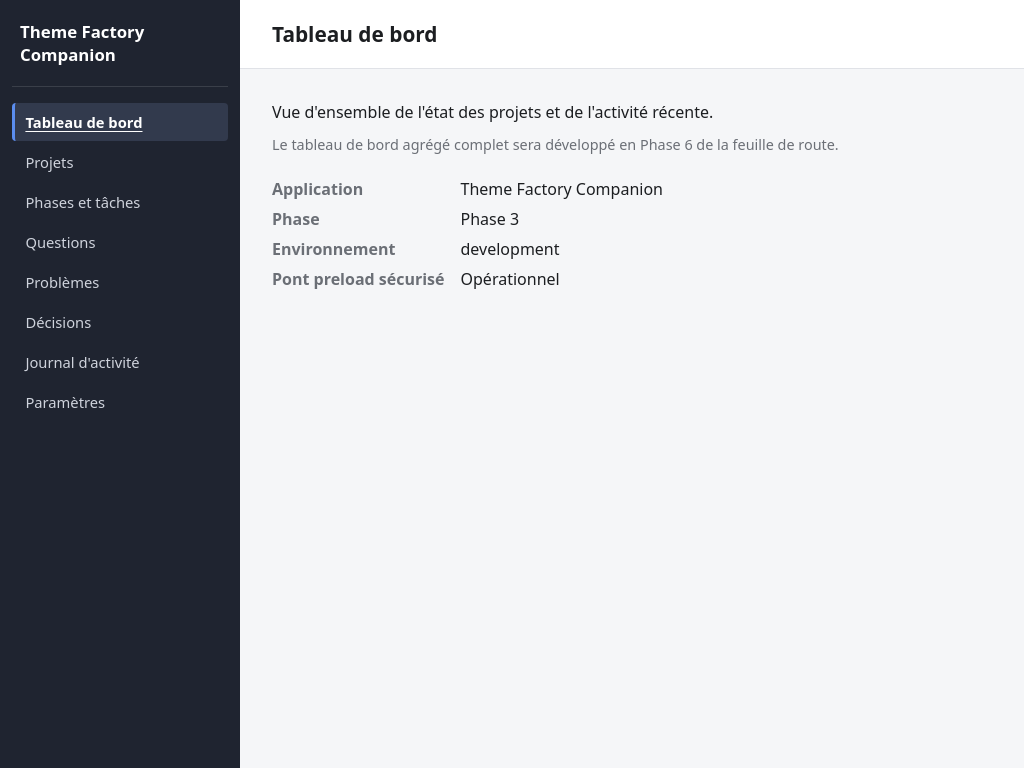
Test: App — câblage réel du projet actif entre ProjectsPage et PhasesPage › remet le projet actif à null lors de sa suppression et revient à l'état « aucun projet actif » sur Phases
The image size is (1024, 768).
Click the button "Projets" at (120, 162), box [12,143,228,181]
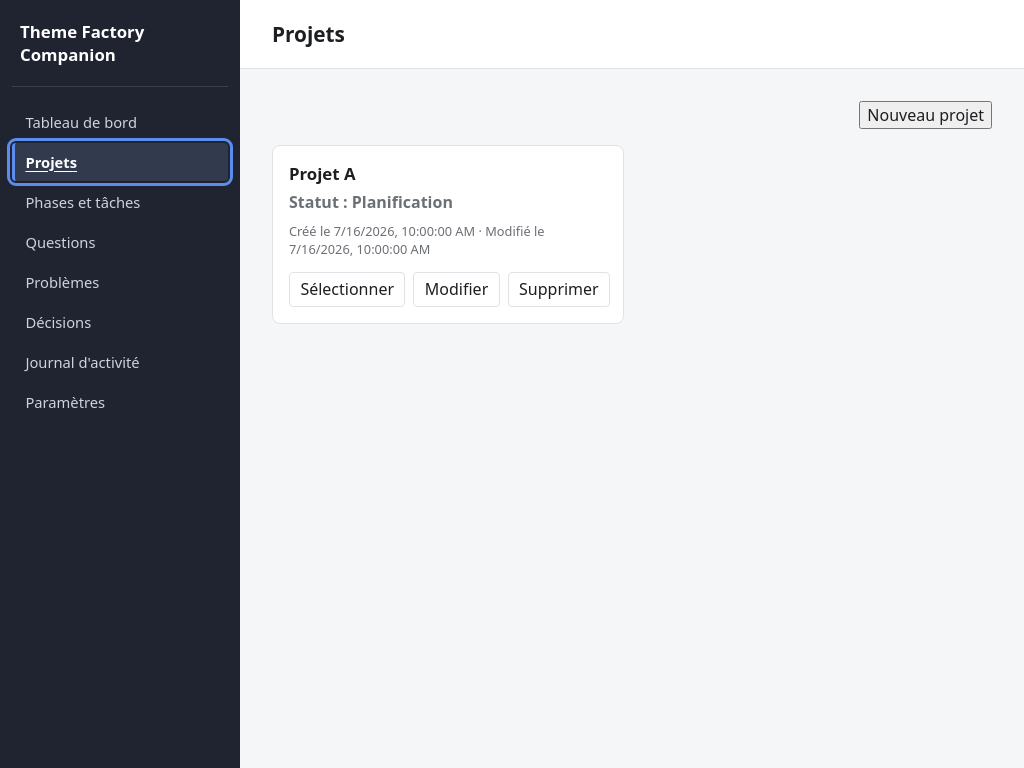
expect the heading "Projet A" is shown: met, box [289,162,356,185]
Click the button "Sélectionner" at (347, 289), box [289,272,405,307]
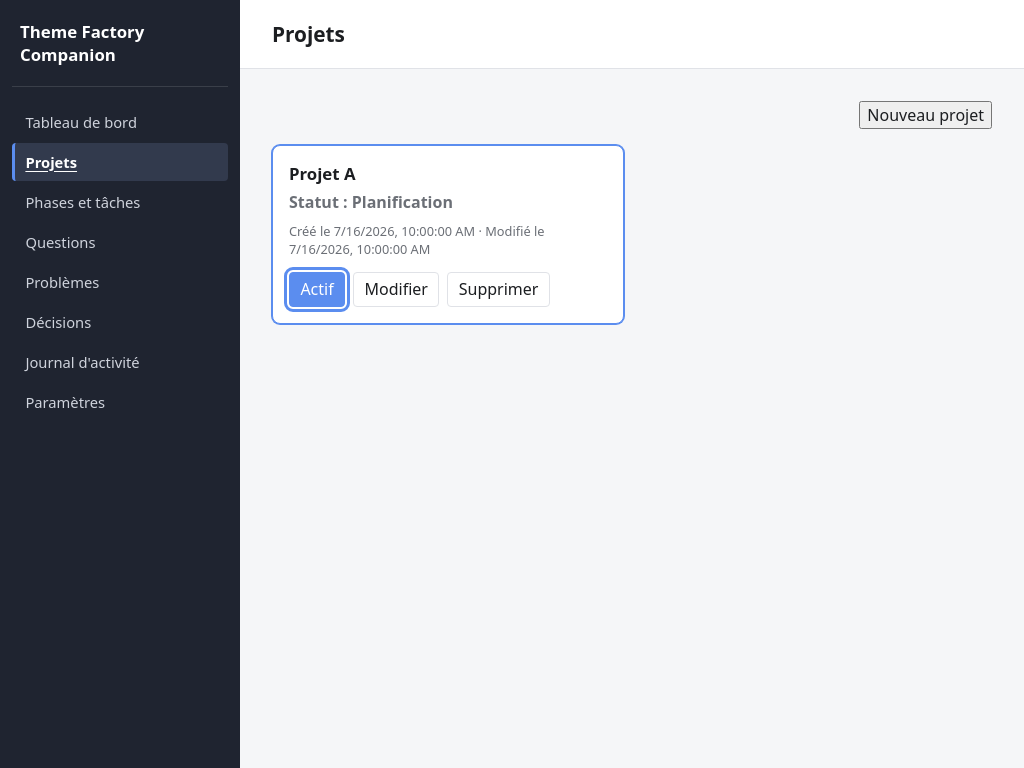
Click the button "Phases et tâches" at (120, 202), box [12,183,228,221]
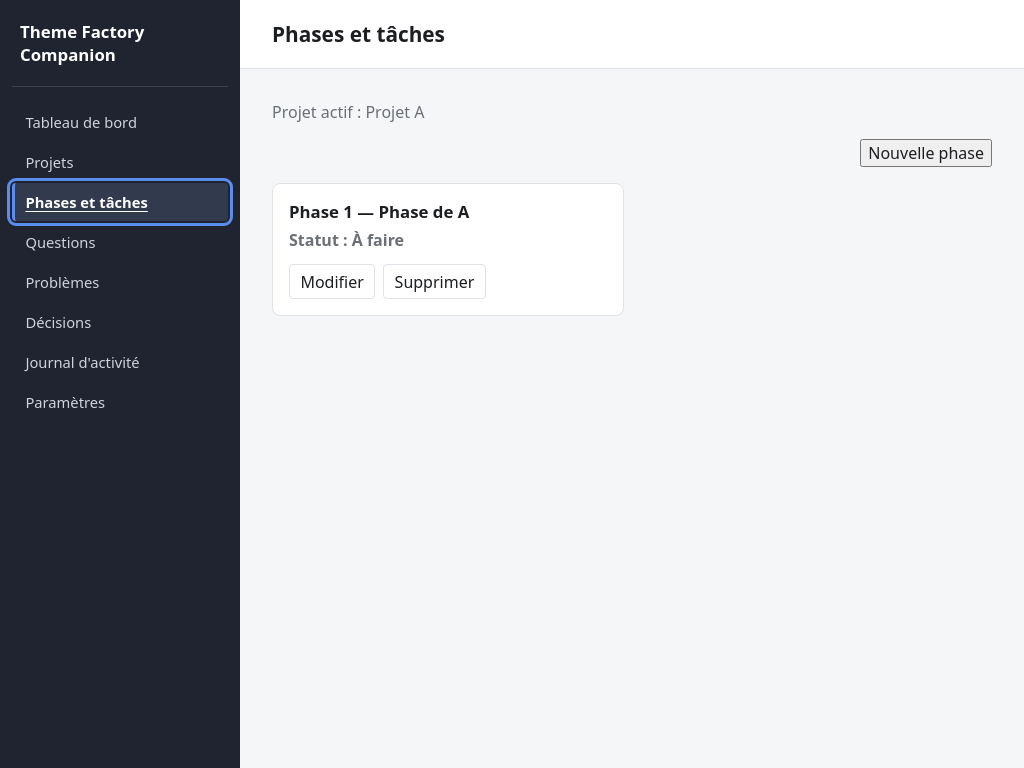
expect the heading "Phase 1 — Phase de A" is shown: met, box [289,200,469,223]
Click the button "Projets" at (120, 162), box [12,143,228,181]
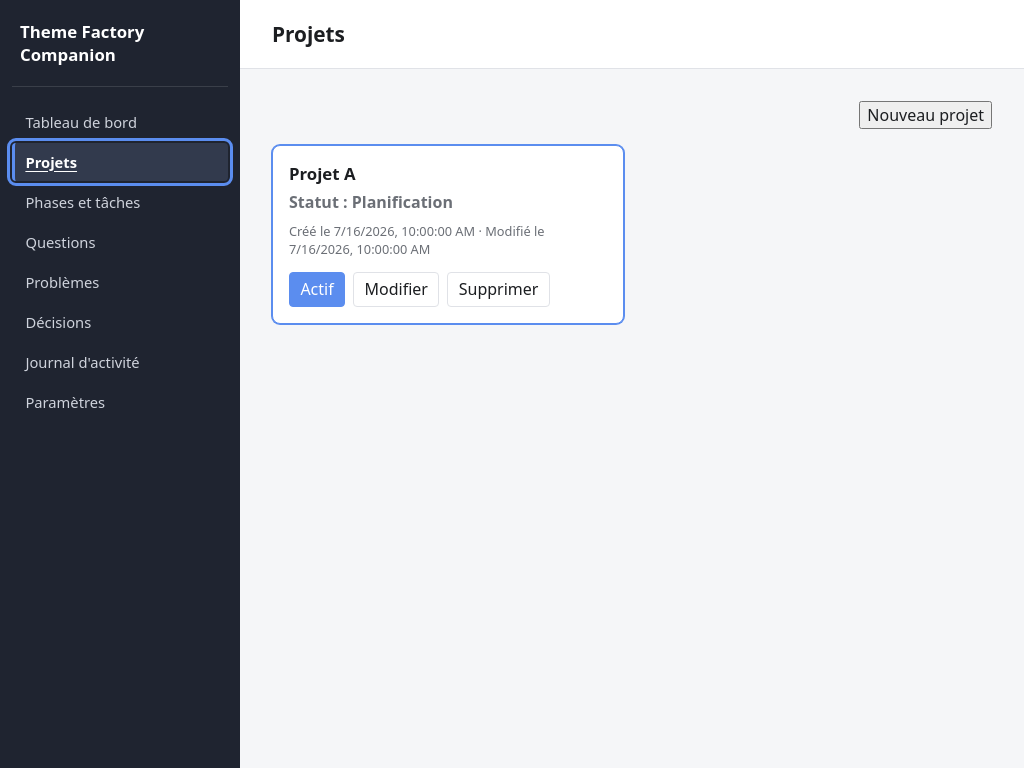
Click the button "Supprimer" at (499, 289), box [447,272,550,307]
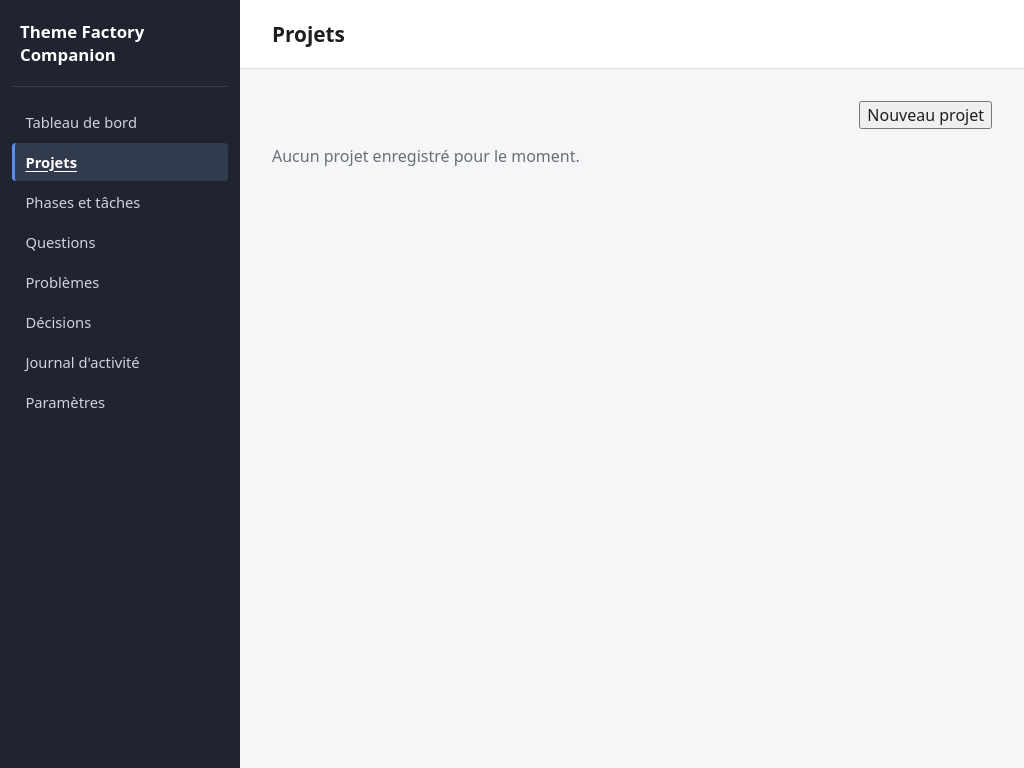
Click the button "Phases et tâches" at (120, 202), box [12,183,228,221]
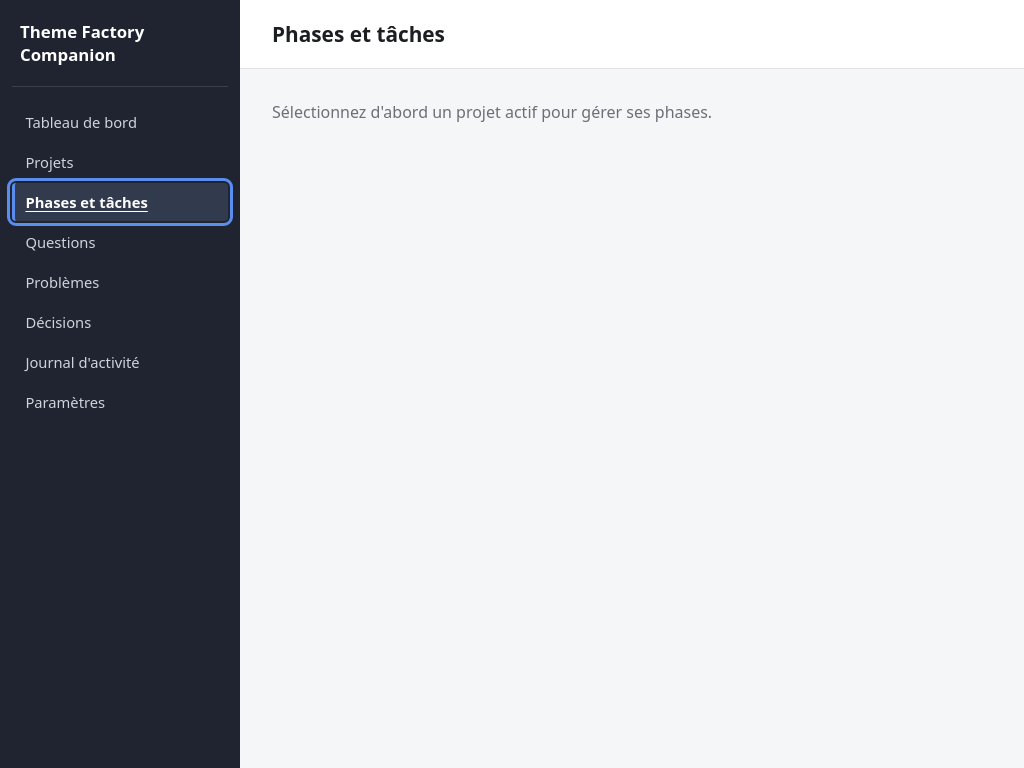
expect the text "Sélectionnez d'abord un projet actif pour gérer ses phases." is shown: met, box [272,101,712,123]
